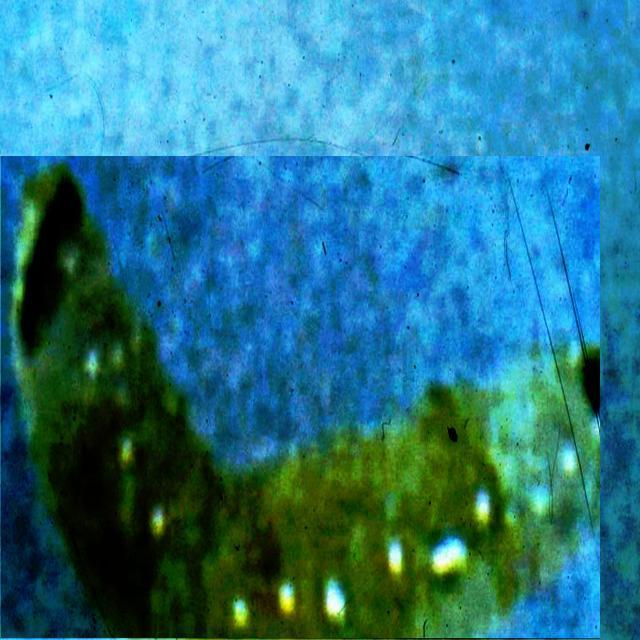whorl-maggot: (1, 156, 600, 639)
